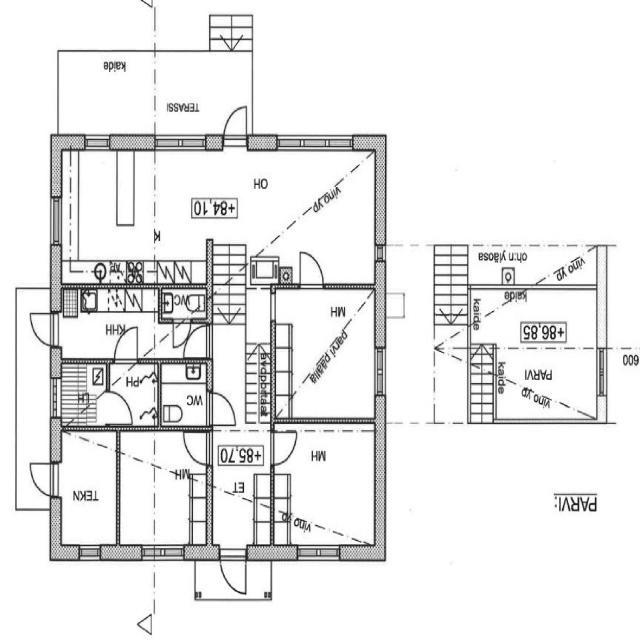door: (218, 546, 249, 597), (26, 459, 61, 500), (175, 322, 211, 360), (206, 387, 238, 428), (296, 248, 326, 290), (102, 389, 134, 428), (270, 426, 299, 468), (111, 324, 140, 366), (222, 102, 249, 147), (182, 428, 211, 469), (28, 311, 58, 347), (171, 318, 192, 352)
window: (275, 129, 356, 156), (154, 132, 208, 154), (295, 542, 343, 564), (143, 542, 187, 564), (47, 195, 64, 250), (594, 345, 610, 399), (373, 345, 388, 399), (82, 131, 111, 153), (76, 542, 103, 563)
zone: (160, 149, 377, 283), (54, 148, 163, 285), (272, 288, 378, 421), (274, 427, 378, 548), (117, 431, 208, 552), (210, 427, 274, 549), (54, 432, 119, 552), (494, 348, 600, 420), (469, 287, 596, 347), (61, 284, 158, 359), (54, 358, 108, 425), (159, 362, 211, 429), (106, 361, 160, 424), (210, 426, 272, 474), (159, 285, 209, 323)
